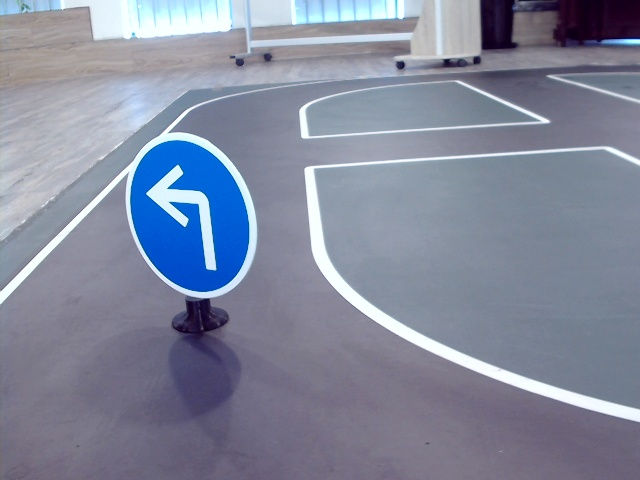turn_left: (145, 162, 225, 269)
